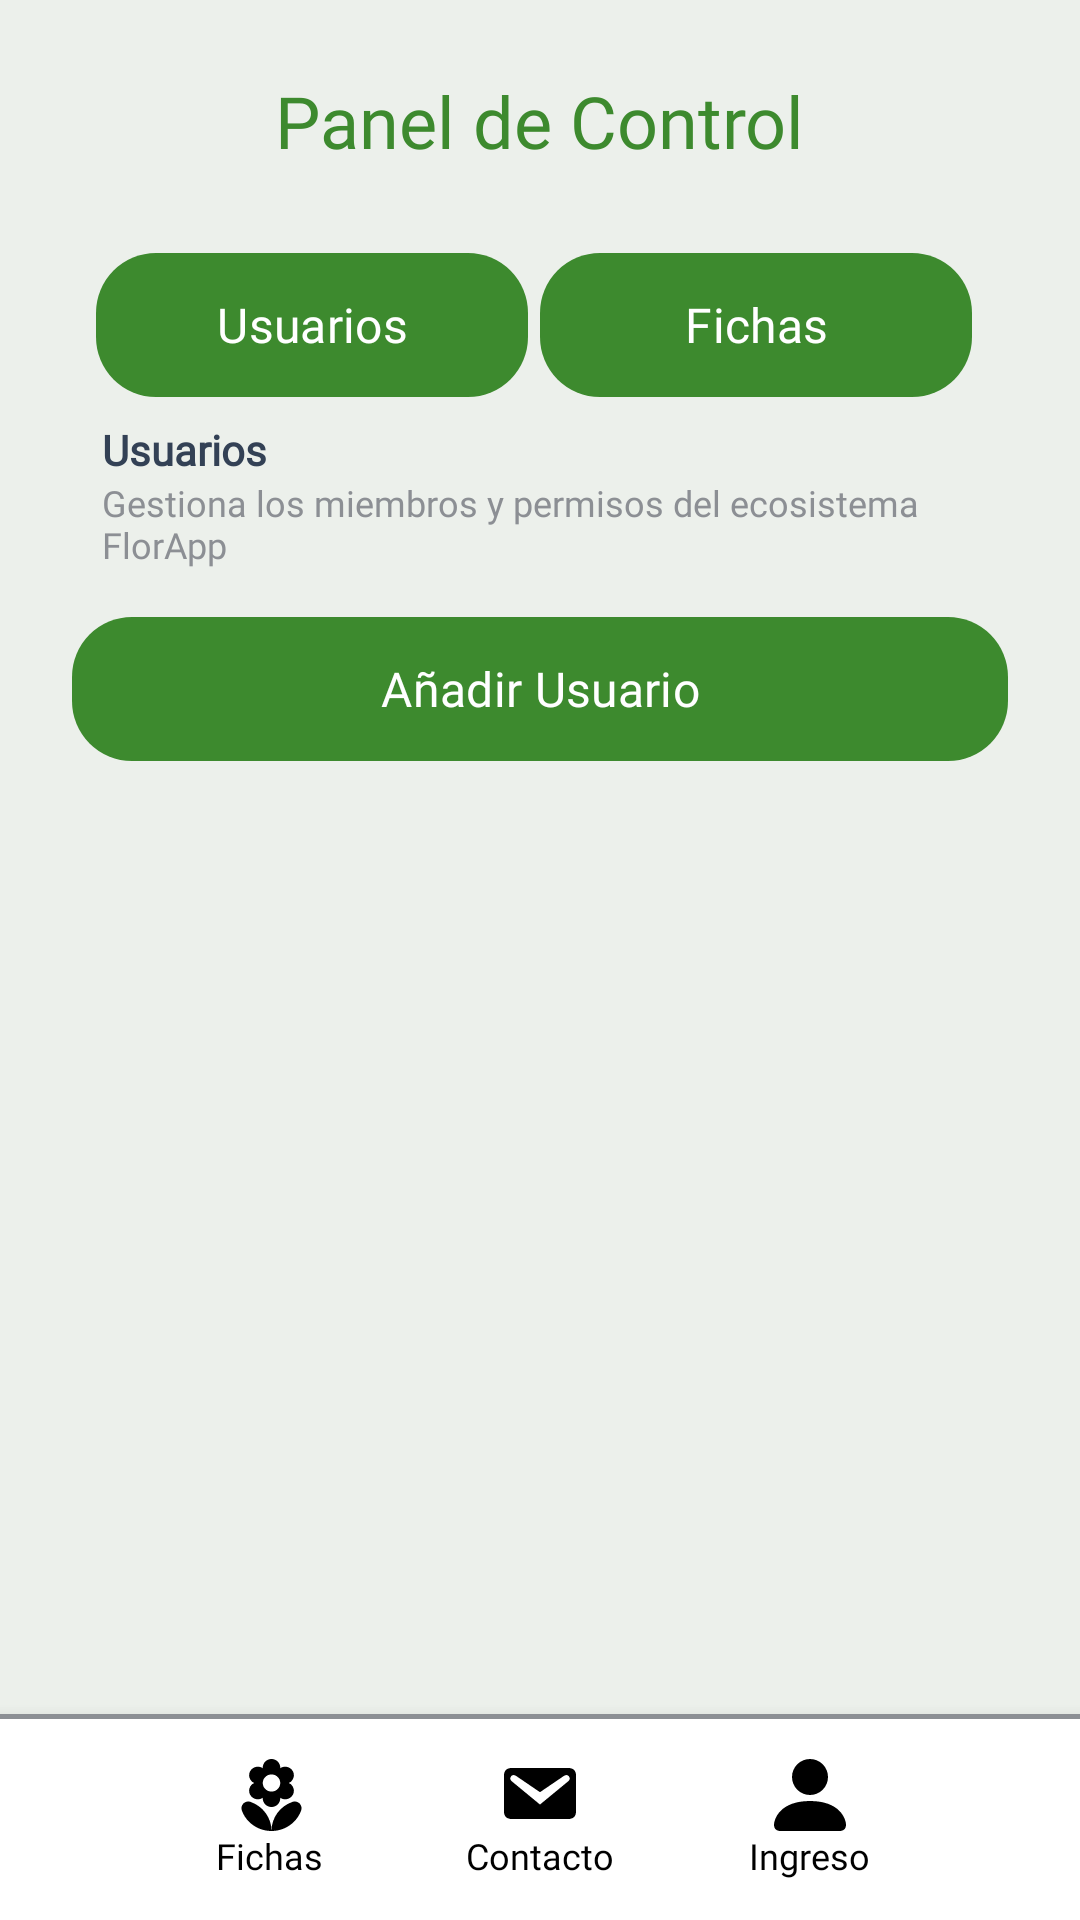

Screen size 1080px×1920px. Icon name, then its center in pixels as [x,y]:
usuario: [810,1795]
